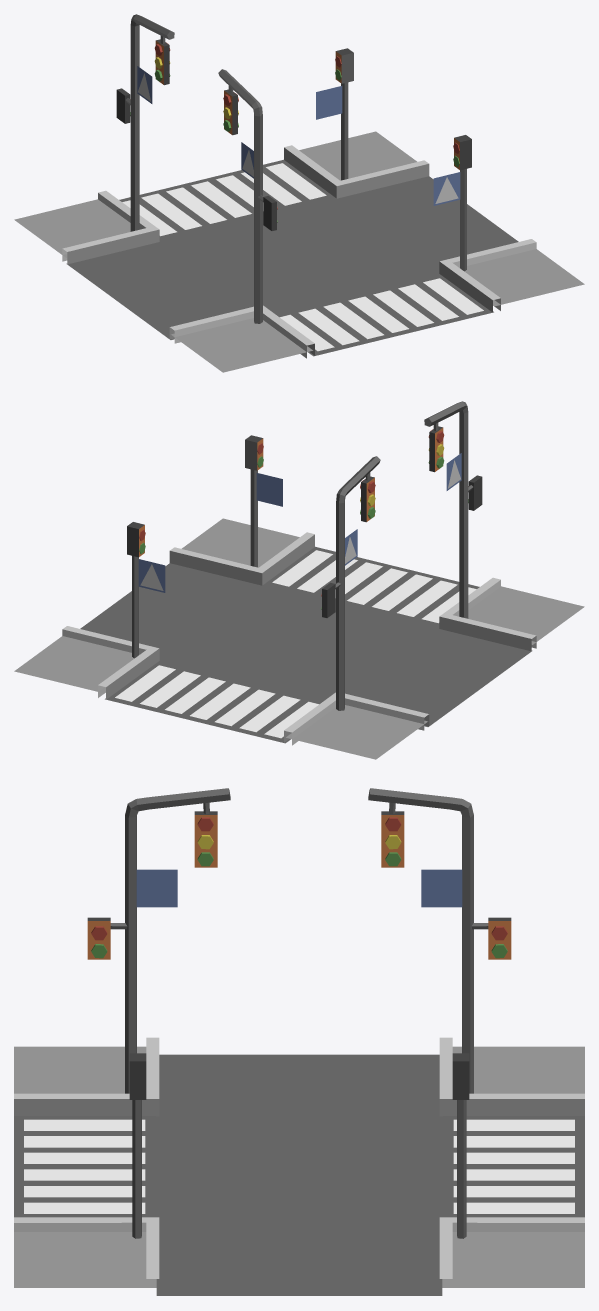
Rendered from road_tile_1x1_013.glb.
3 renders of one model, top to bottom at view 1: azimuth 30°, elevation 25°; view 2: azimuth 150°, elevation 25°; view 3: azimuth 270°, elevation 25°, orthographic. The views are drawn at different scales.
Parts seen in each view (by area): view 1: road_tile_1x1_013; view 2: road_tile_1x1_013; view 3: road_tile_1x1_013.
Part boxes in pixels (bbox=[...]): road_tile_1x1_013: bbox=[14, 14, 584, 372]; road_tile_1x1_013: bbox=[14, 401, 584, 759]; road_tile_1x1_013: bbox=[14, 788, 584, 1295].
Bounding box in the file's own units: 8 × 4.94 × 8.
1 material, 1 textured.
